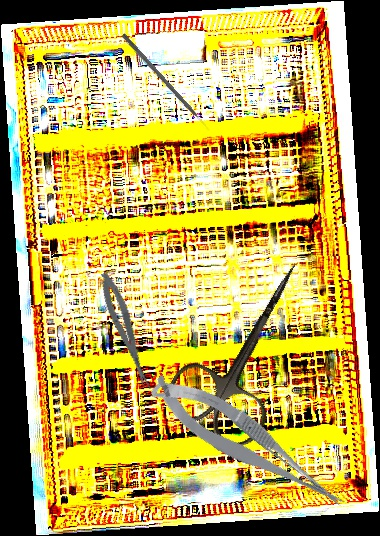Hook Surgical: (120, 33, 211, 133)
Iris Scissors: (157, 239, 342, 456)
Micro Scissor: (142, 355, 352, 535), (95, 269, 156, 395)
